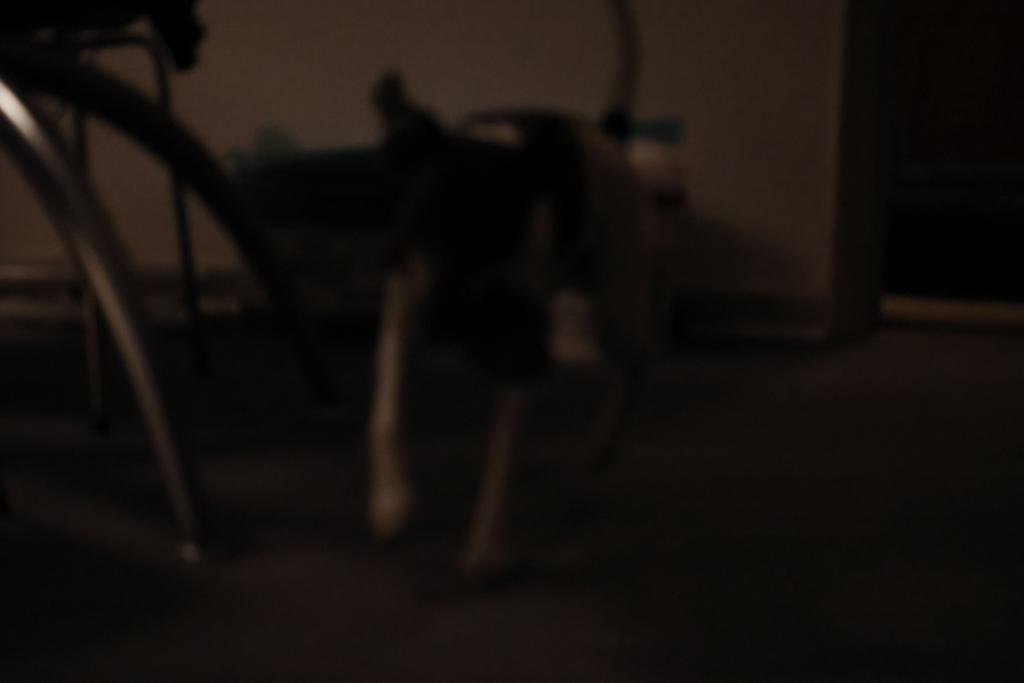Dog: (346, 0, 695, 601)
